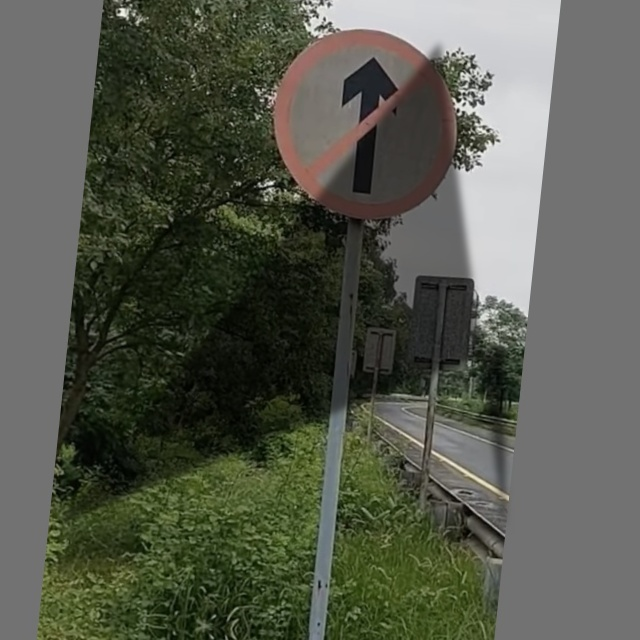No_Entry: (264, 23, 464, 226)
